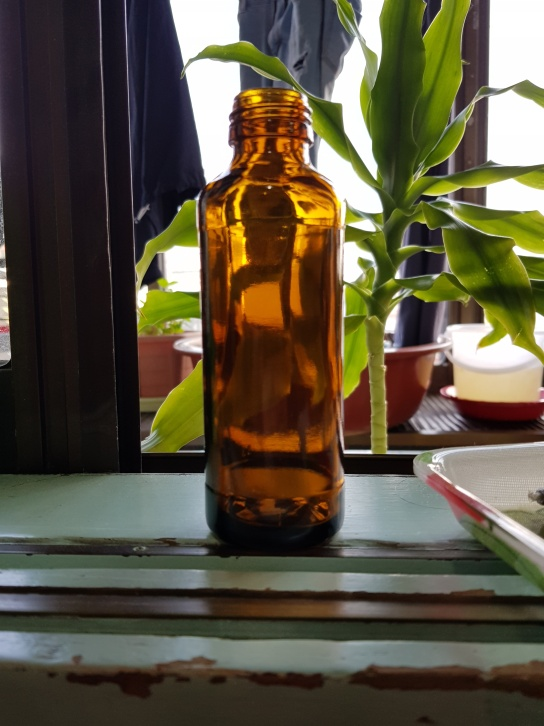Glass: (196, 87, 347, 553)
